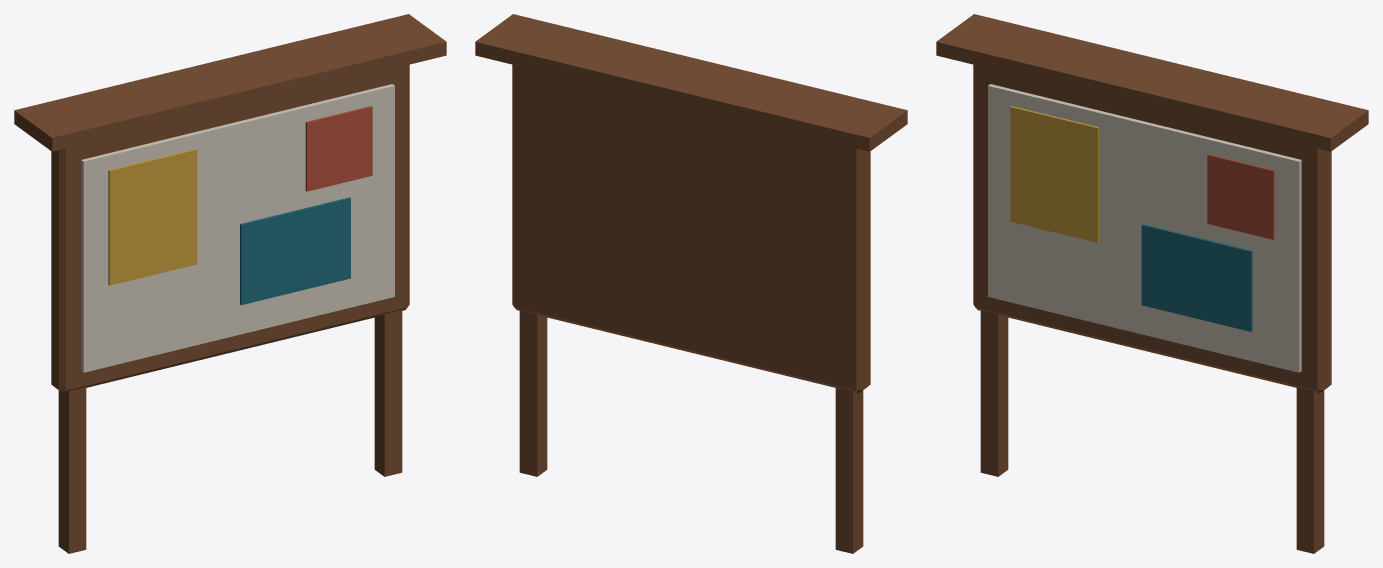
File: notice_board.glb
3 views of the same model, side by side, from view 1: azimuth 30°, elevation 25°; view 2: azimuth 150°, elevation 25°; view 3: azimuth 330°, elevation 25° (orthographic).
Visible parts, largest first — view 1: notice_board; view 2: notice_board; view 3: notice_board.
Part boxes in pixels (x1=…): notice_board: x1=14, y1=14, x2=446, y2=553; notice_board: x1=475, y1=14, x2=907, y2=553; notice_board: x1=936, y1=14, x2=1368, y2=553.
Bounding box in the file's own units: 1.8 × 1.89 × 0.2999.
